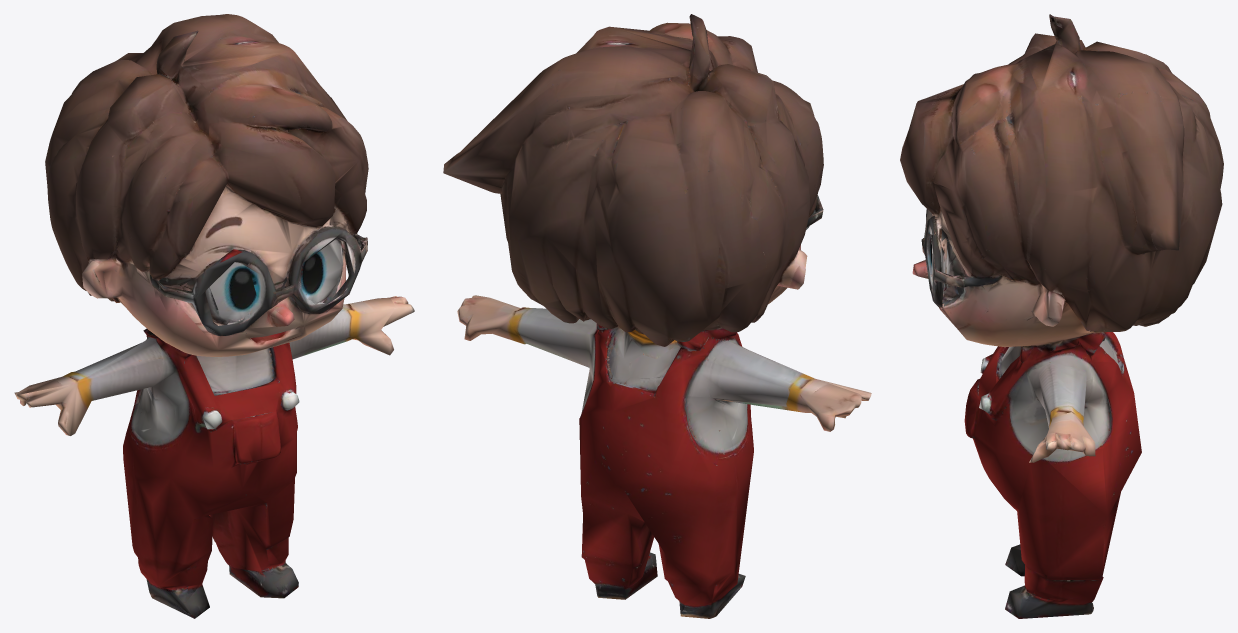
File: boy.glb
3 renders of one model, left to right at view 1: azimuth 30°, elevation 25°; view 2: azimuth 150°, elevation 25°; view 3: azimuth 270°, elevation 25°, orthographic. The views are drawn at different scales.
Parts seen in each view (by area): view 1: Object_4; view 2: Object_4; view 3: Object_4.
Boxes of the visible parts, x1,y1,x2,y2 form: Object_4: [14, 14, 414, 618]; Object_4: [443, 14, 871, 618]; Object_4: [900, 14, 1223, 618].
Size of the model in its own units: 1.43 by 1.99 by 1.04.
Materials: 1 (1 with a texture image).
